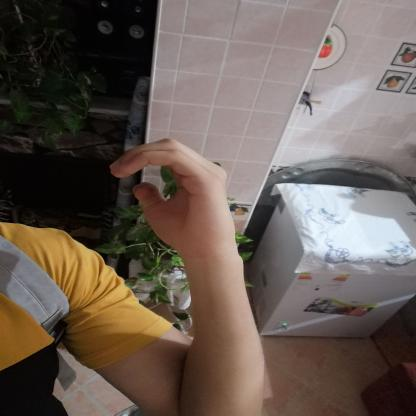JEEM: (93, 130, 264, 260)
